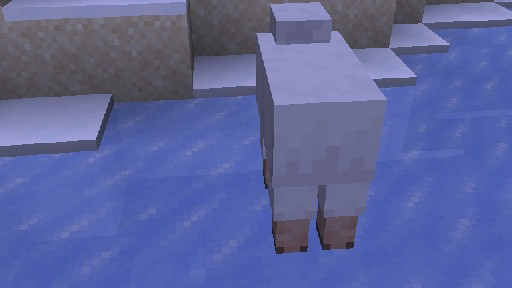sheep: (255, 1, 387, 253)
